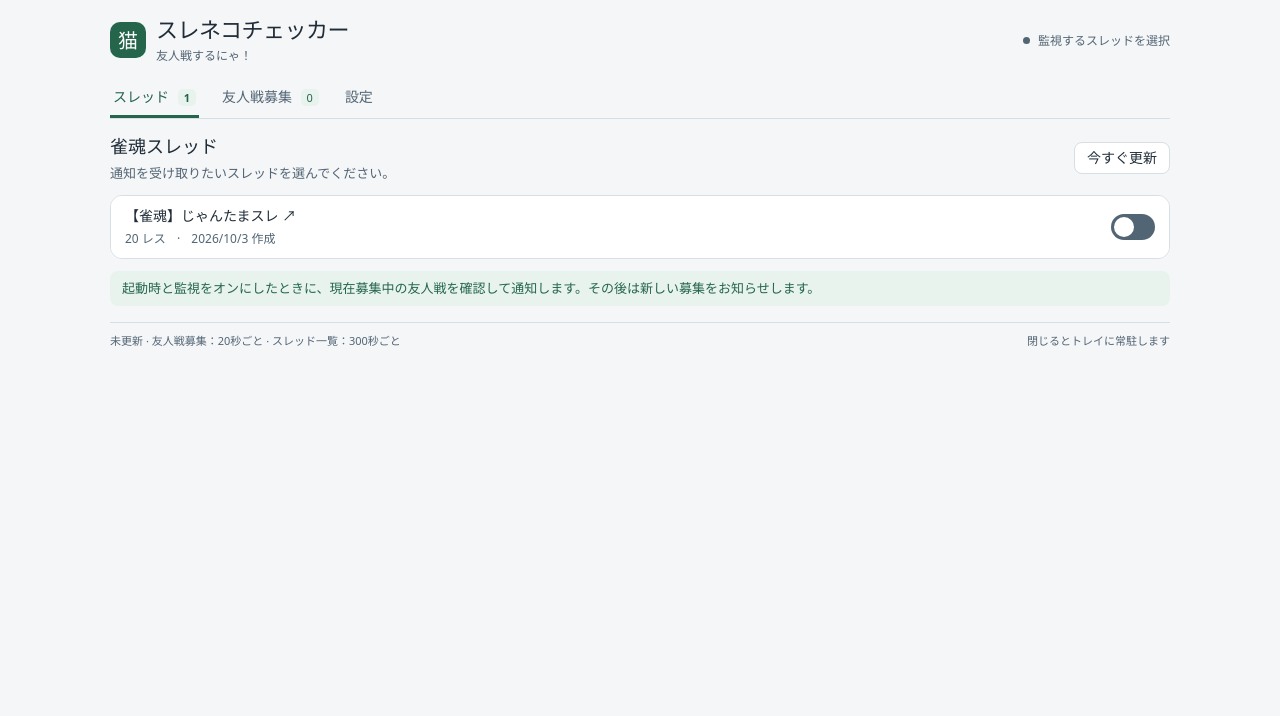
Test: 保存の成功通知を閉じてから同じ設定を保存すると再表示する
Click the button "設定" at (359, 98), box [342,79,376,118]
(page scrolled)
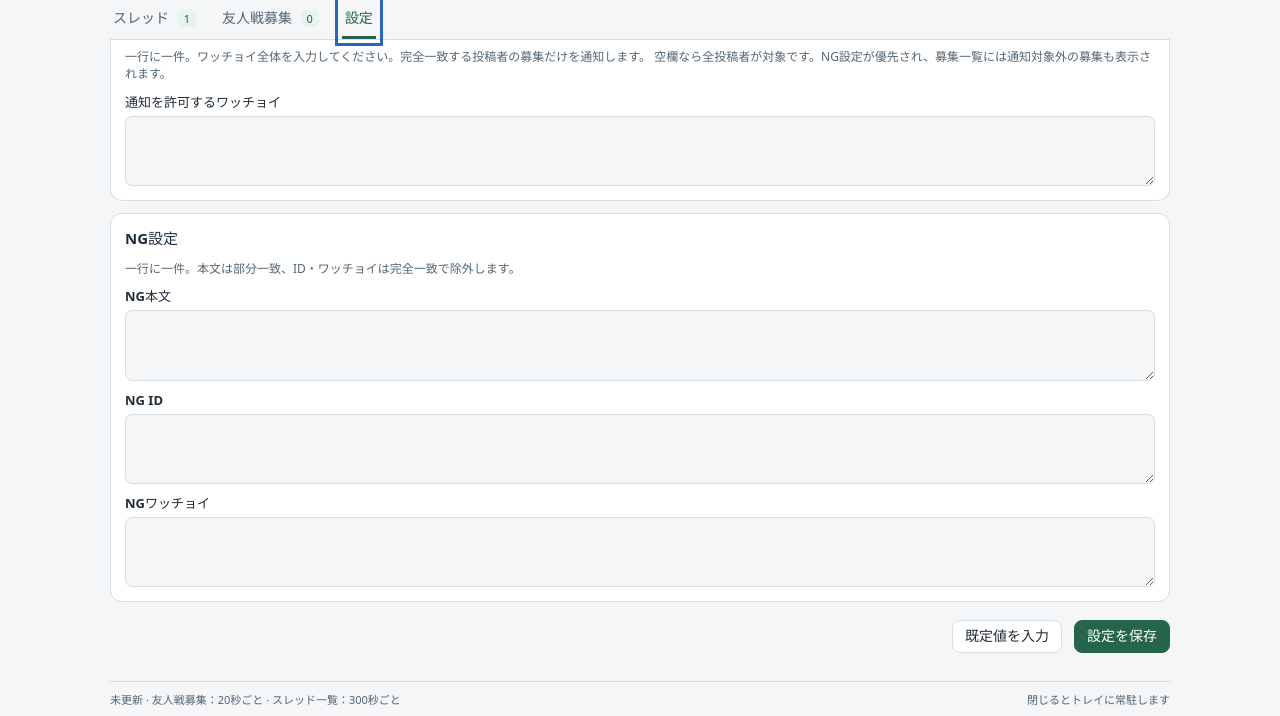
Click the button "設定を保存" at (1122, 637), box [1074,620,1170,653]
(page scrolled)
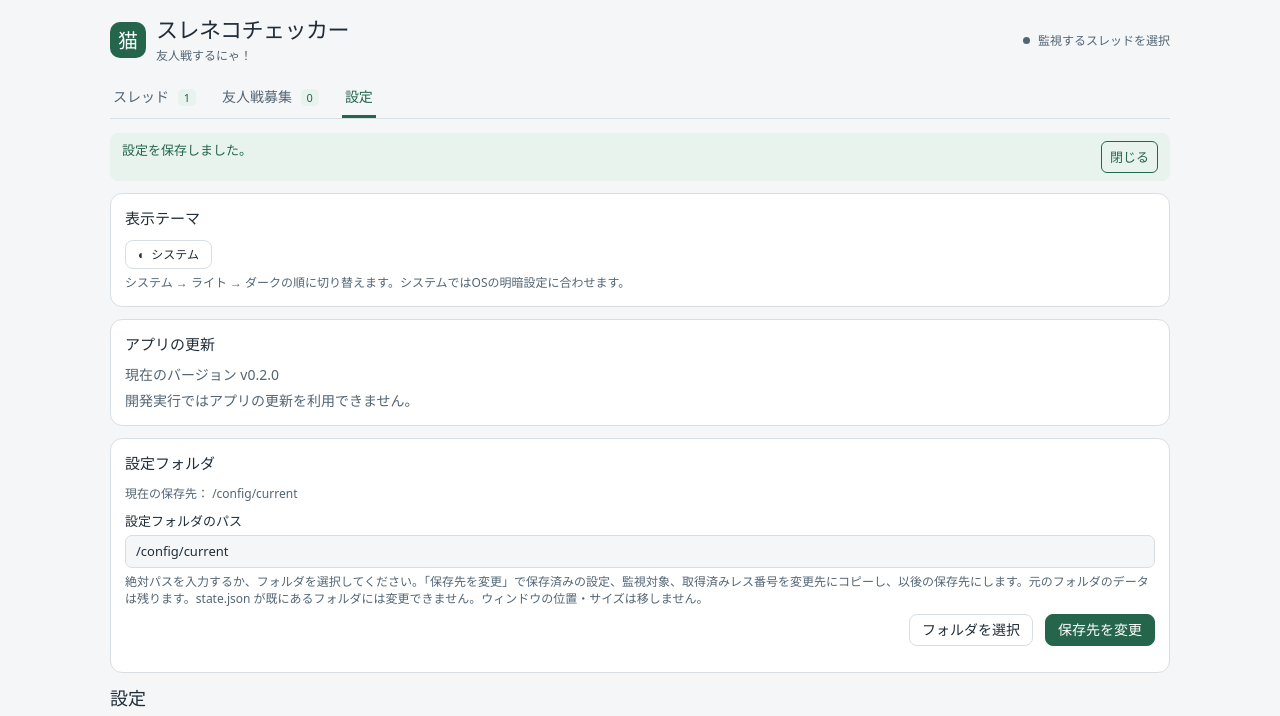
Click the button with aria-label "通知を閉じる" at (1130, 157), box [1101,141,1158,173]
(page scrolled)
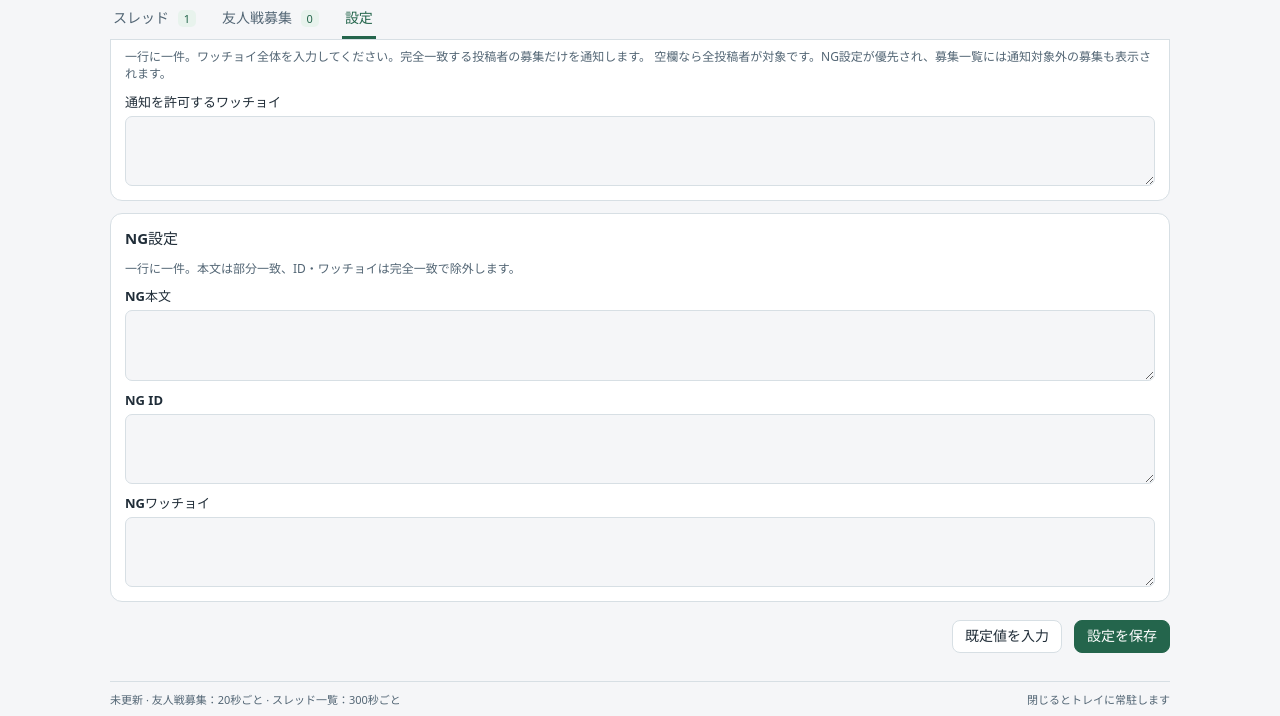
Expected: the button "通知を閉じる" is gone
Click the button "設定を保存" at (1122, 637), box [1074,620,1170,653]
(page scrolled)
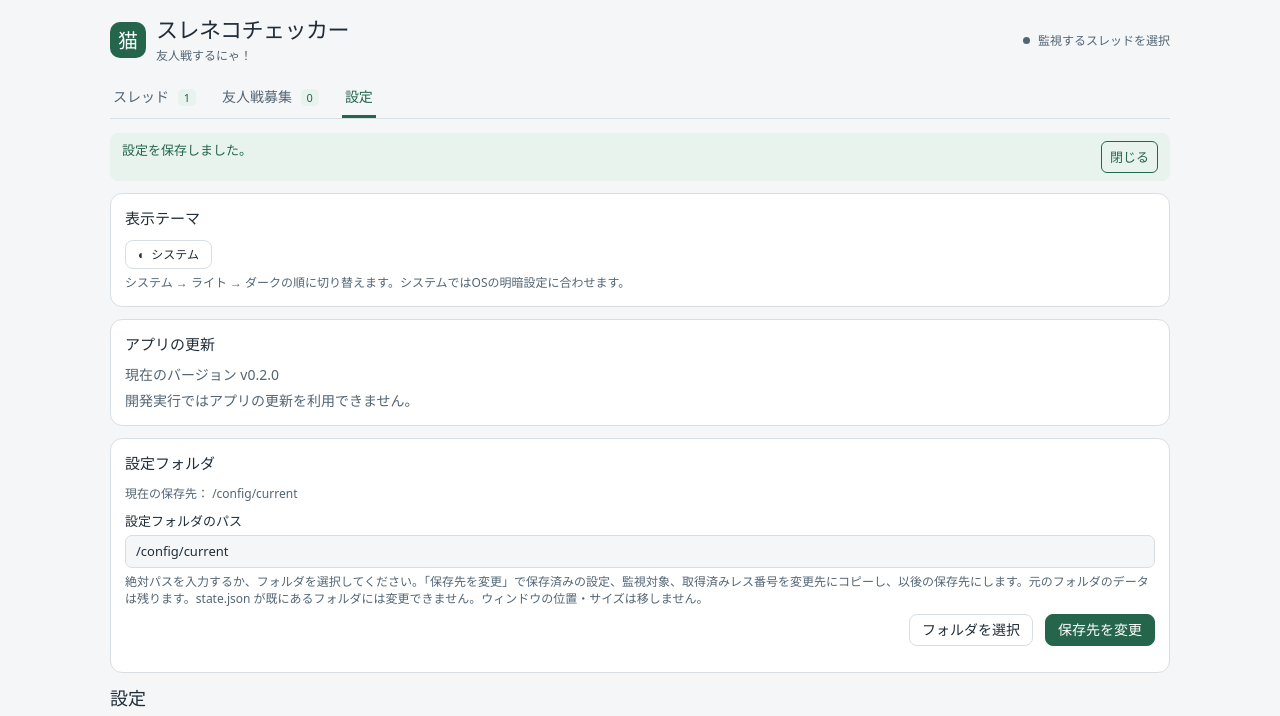
Expected: the button with aria-label "通知を閉じる" is shown, [1101,141,1158,173]
